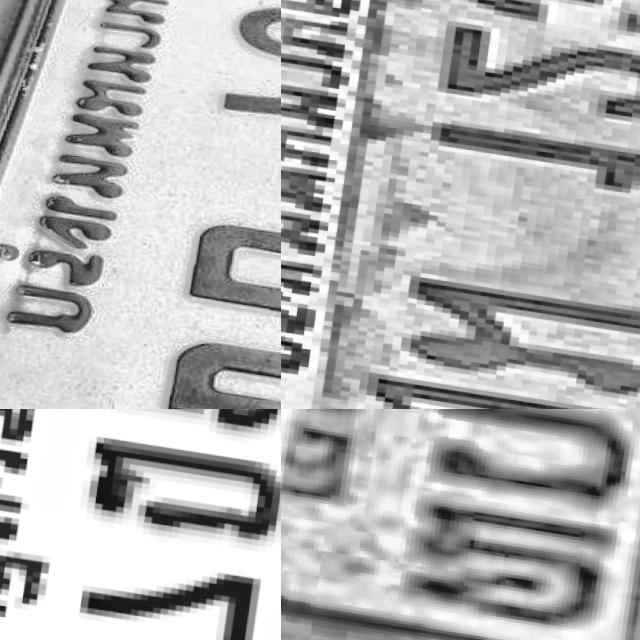license-plate: (281, 0, 640, 409), (0, 0, 281, 409), (281, 409, 640, 640), (0, 409, 281, 640)
